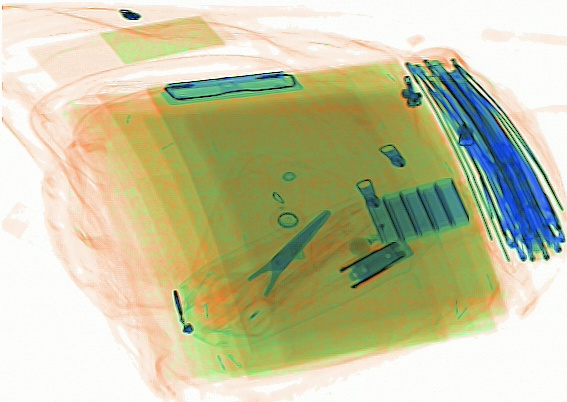scissors: (198, 205, 332, 334)
